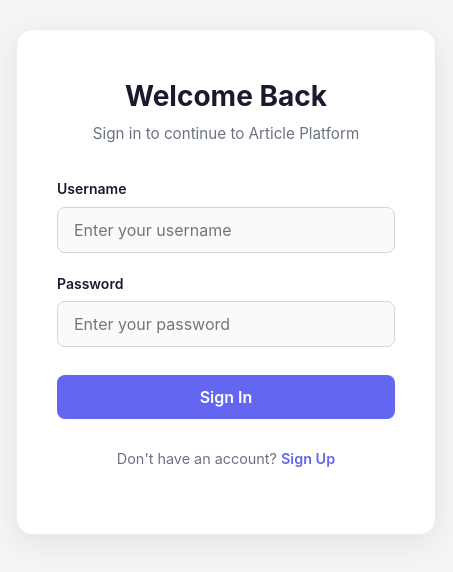
LoginPage › Form Validation › should show password error on blur
Click the password field labelled "Password" at (226, 324), box [57,301,395,347]
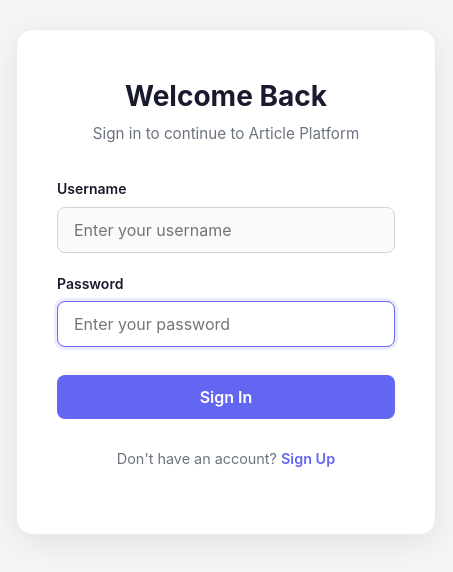
Press Tab
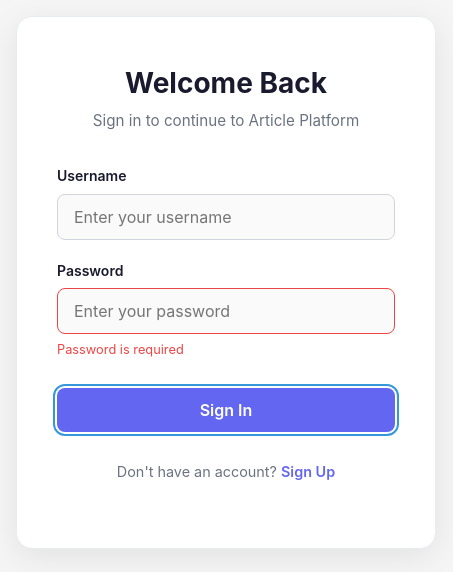
Now the text "Password is required" is shown, box [57,342,184,357]
